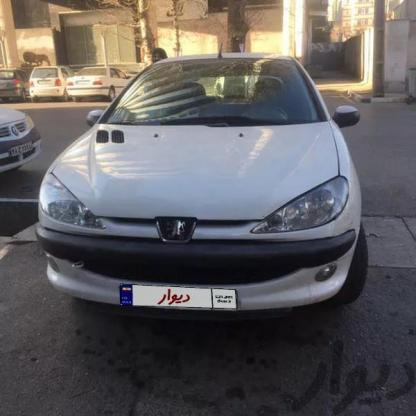Car: (40, 34, 396, 342), (0, 106, 42, 187), (69, 62, 138, 110), (32, 66, 64, 110), (0, 65, 26, 104)
